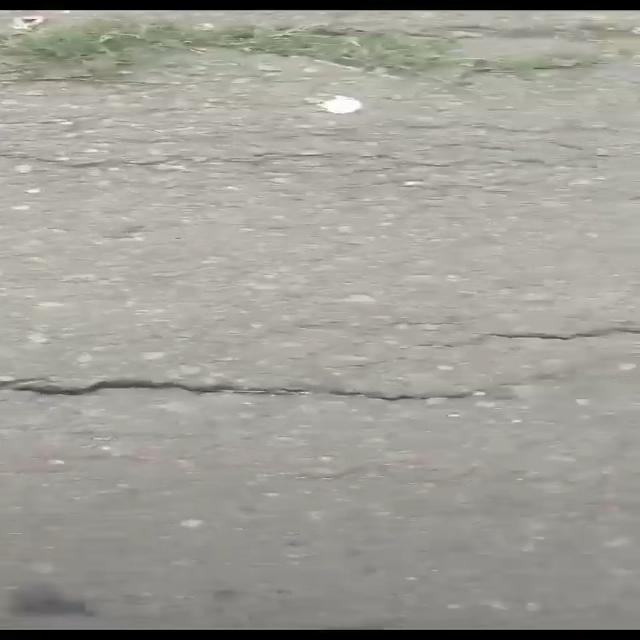Melintang: (0, 362, 529, 413), (467, 314, 640, 352)
